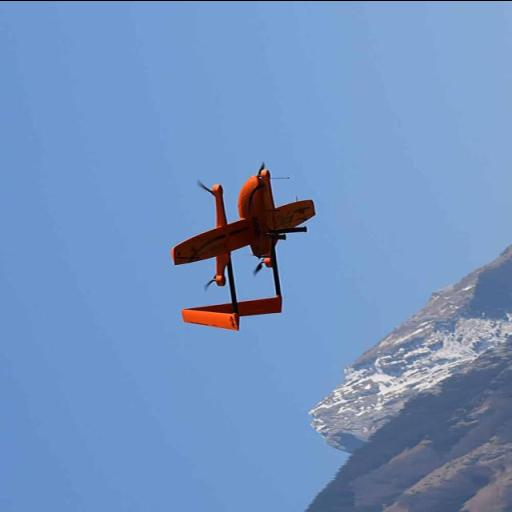uav: (167, 162, 335, 342)
